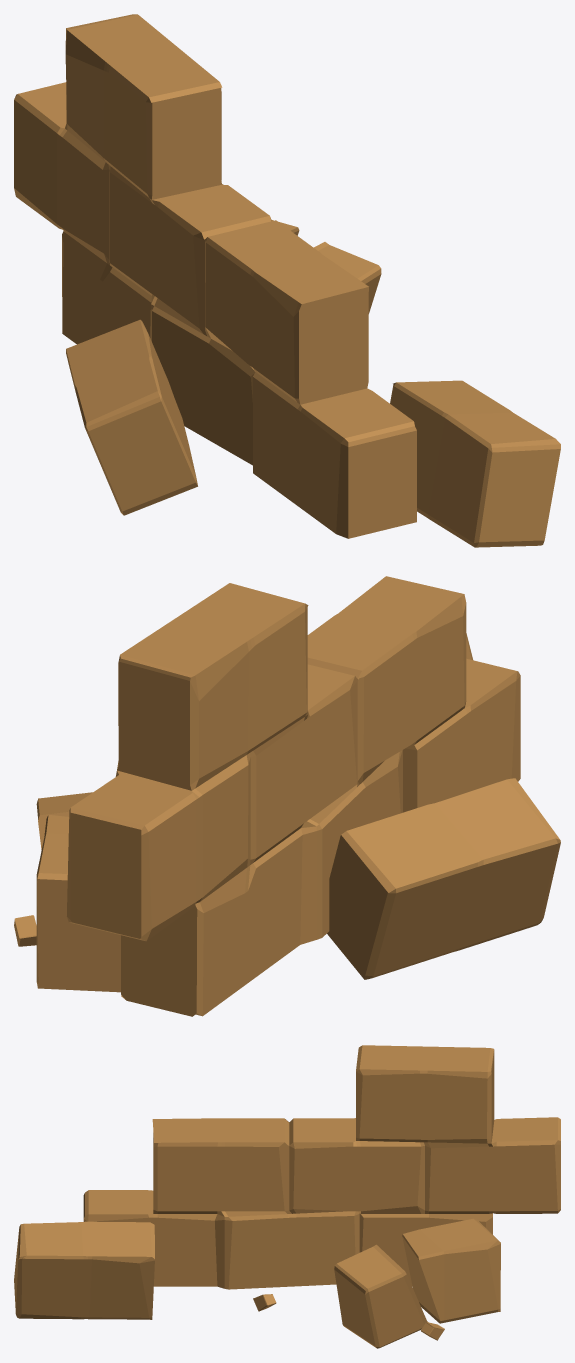
File: BrokenLowWall02.fbx
3 renders of one model, top to bottom at view 1: azimuth 30°, elevation 25°; view 2: azimuth 150°, elevation 25°; view 3: azimuth 270°, elevation 25°, orthographic. The views are drawn at different scales.
Visible parts, largest first — view 1: BrokenLowWall02; view 2: BrokenLowWall02; view 3: BrokenLowWall02.
Boxes of the visible parts, <box> form: BrokenLowWall02: <box>14,14,560,547</box>; BrokenLowWall02: <box>14,576,560,1016</box>; BrokenLowWall02: <box>14,1045,560,1348</box>.
Size of the model in its own units: 456 by 375 by 799.
